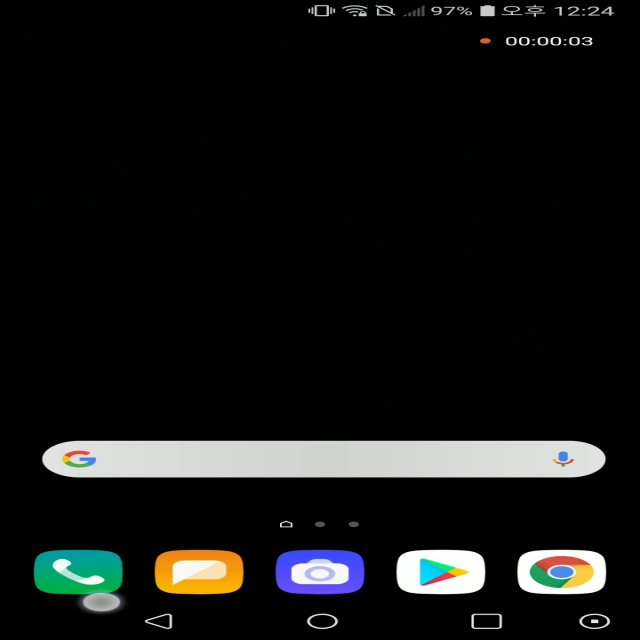Cursor: (79, 593, 123, 615)
